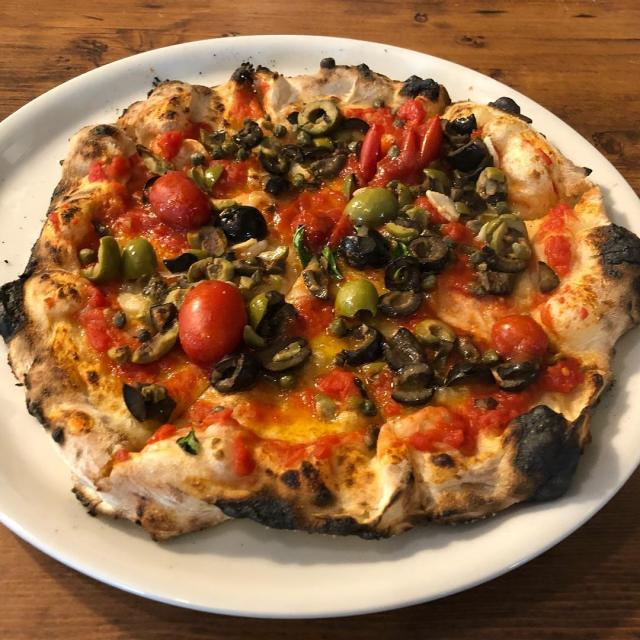basil: (290, 220, 312, 269), (316, 245, 342, 281), (174, 428, 204, 453), (386, 239, 410, 270)
black_olives: (462, 246, 518, 297), (117, 380, 177, 422), (258, 334, 312, 380), (210, 202, 270, 243), (208, 349, 263, 390), (341, 323, 387, 368), (252, 149, 295, 195), (381, 328, 428, 370), (392, 362, 436, 405), (337, 232, 386, 269), (404, 232, 449, 272), (442, 357, 497, 387), (384, 252, 422, 292), (493, 360, 540, 392), (380, 284, 423, 318), (447, 138, 491, 170), (144, 302, 178, 334), (162, 249, 200, 275), (536, 260, 560, 293), (447, 113, 477, 136), (337, 115, 371, 135), (132, 330, 151, 342)
green_olives: (80, 230, 121, 285), (486, 214, 534, 260), (345, 187, 398, 226), (334, 277, 380, 318), (237, 247, 291, 280), (122, 236, 159, 282), (132, 330, 178, 365), (200, 129, 250, 161), (390, 202, 430, 240), (244, 294, 270, 350), (187, 228, 227, 258), (298, 103, 339, 132), (188, 258, 236, 282), (186, 161, 224, 191), (475, 167, 508, 200), (300, 268, 332, 302), (308, 151, 347, 178), (416, 321, 457, 345), (416, 170, 453, 192), (385, 178, 414, 206), (101, 343, 132, 363), (140, 383, 167, 403), (341, 170, 358, 199), (208, 196, 236, 211), (310, 134, 336, 150), (453, 200, 471, 216), (386, 142, 400, 160)
pizza: (0, 55, 640, 545)
tomatoes: (180, 278, 246, 365), (150, 169, 212, 230), (396, 111, 445, 172), (491, 310, 548, 360), (359, 122, 382, 180)
